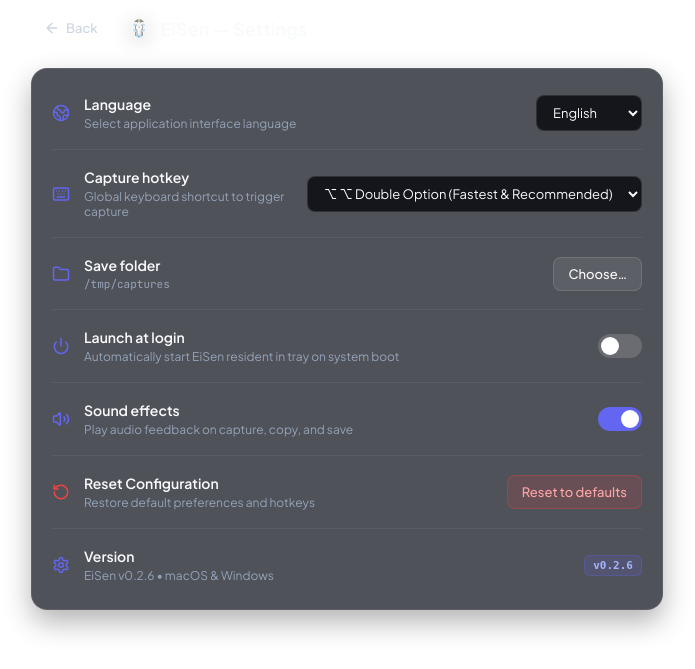
Test: language › applies cmd_reset_config lang instead of hardcoding English
Click the button "Reset to defaults" at (574,492), box x1=507 y1=475 x2=642 y2=509
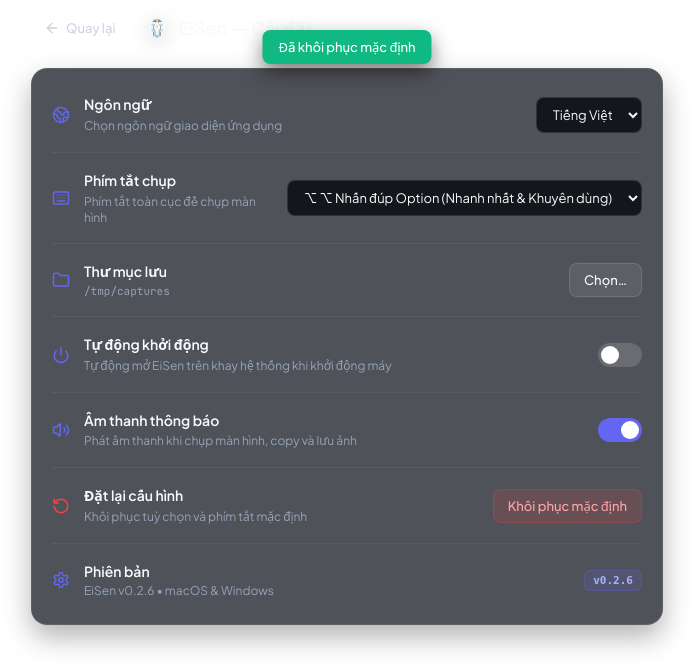
Expected: the heading "EiSen — Cài đặt" is shown, x1=178 y1=16 x2=313 y2=40
